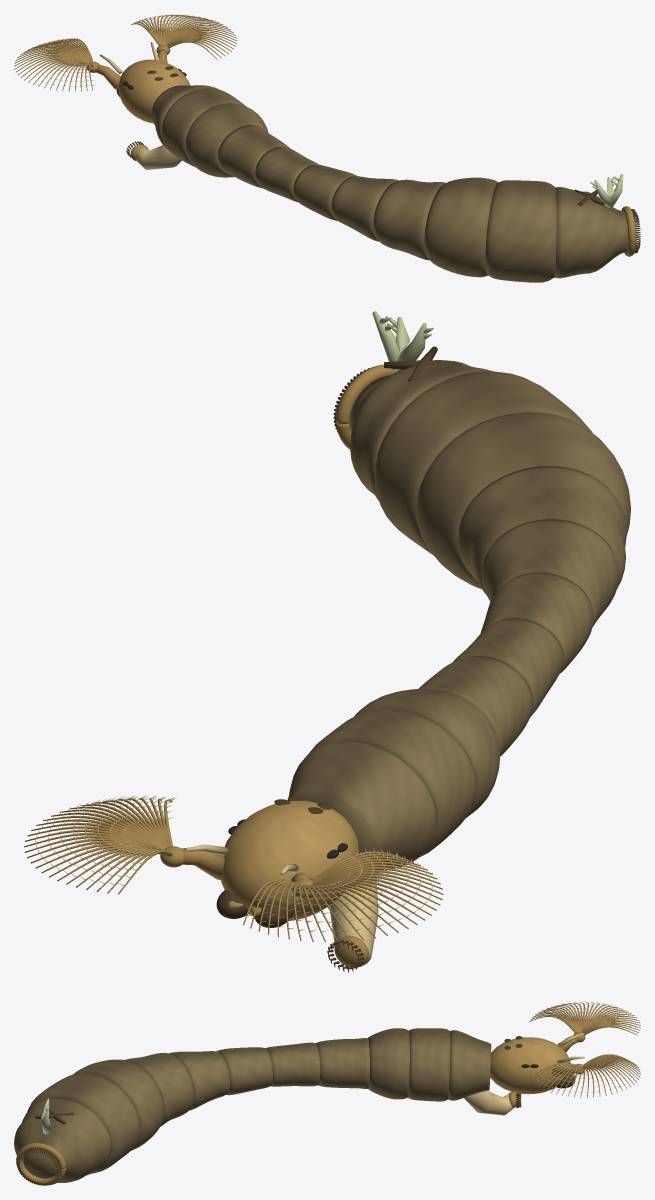
File: Simulium_web.glb
3 views of the same model, one above another, from view 1: azimuth 30°, elevation 25°; view 2: azimuth 150°, elevation 25°; view 3: azimuth 270°, elevation 25° (orthographic). The views are drawn at different scales.
Parts seen in each view (by area): view 1: abdomen_07, abdomen_06, abdomen_08, abdomen_05, torax_3, ventall_E, cap, ventall_D, abdomen_04, torax_2, abdomen_01, abdomen_03 (+4 smaller); view 2: abdomen_06, abdomen_07, torax_1, cap, abdomen_05, ventall_D, torax_2, abdomen_04, ventall_E, abdomen_03, abdomen_08, abdomen_01 (+5 smaller); view 3: abdomen_08, abdomen_07, cap, torax_2, abdomen_06, torax_3, torax_1, abdomen_01, abdomen_05, ventall_E, ventall_D, abdomen_02 (+4 smaller).
Boxes of the visible parts, bbox=[...] form: abdomen_07: bbox=[485, 180, 556, 282]; abdomen_06: bbox=[424, 177, 498, 277]; abdomen_08: bbox=[554, 187, 628, 278]; abdomen_05: bbox=[373, 179, 445, 260]; torax_3: bbox=[185, 103, 268, 177]; ventall_E: bbox=[14, 38, 120, 91]; cap: bbox=[118, 59, 190, 123]; ventall_D: bbox=[131, 14, 237, 62]; abdomen_04: bbox=[331, 176, 398, 241]; torax_2: bbox=[161, 88, 245, 167]; abdomen_01: bbox=[217, 125, 289, 188]; abdomen_03: bbox=[293, 164, 357, 220]; abdomen_06: bbox=[416, 412, 630, 589]; abdomen_07: bbox=[374, 371, 592, 554]; torax_1: bbox=[288, 740, 437, 870]; cap: bbox=[221, 796, 358, 920]; abdomen_05: bbox=[458, 466, 626, 594]; ventall_D: bbox=[24, 795, 224, 894]; torax_2: bbox=[309, 708, 476, 856]; abdomen_04: bbox=[481, 519, 619, 626]; ventall_E: bbox=[243, 848, 443, 942]; abdomen_03: bbox=[480, 572, 593, 673]; abdomen_08: bbox=[349, 360, 492, 500]; abdomen_01: bbox=[418, 656, 532, 756]; abdomen_08: bbox=[14, 1097, 111, 1182]; abdomen_07: bbox=[27, 1073, 139, 1173]; cap: bbox=[490, 1036, 570, 1094]; torax_2: bbox=[408, 1028, 450, 1101]; abdomen_06: bbox=[73, 1059, 164, 1150]; torax_3: bbox=[368, 1028, 409, 1099]; torax_1: bbox=[448, 1030, 491, 1100]; abdomen_01: bbox=[316, 1038, 369, 1088]; abdomen_05: bbox=[125, 1053, 194, 1126]; ventall_E: bbox=[529, 1001, 640, 1051]; ventall_D: bbox=[529, 1054, 640, 1097]; abdomen_02: bbox=[266, 1042, 320, 1086].
Bounding box in the file's own units: 5.67 × 1.91 × 9.94.
